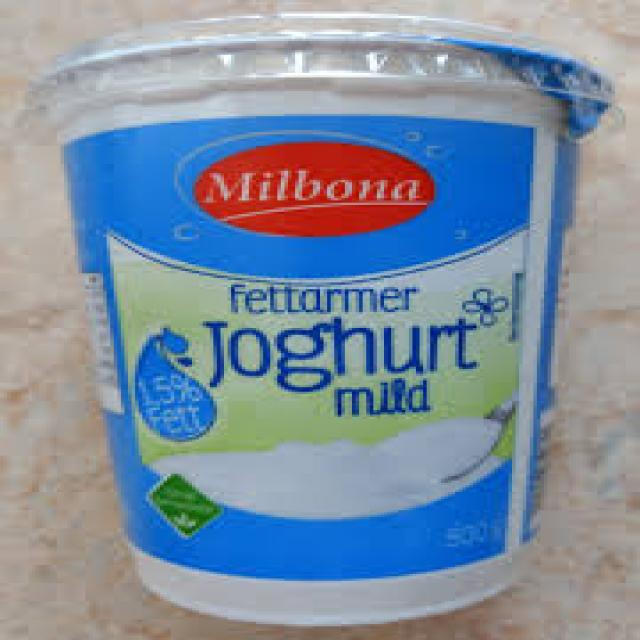plastic: (50, 59, 576, 620), (18, 11, 626, 162)
